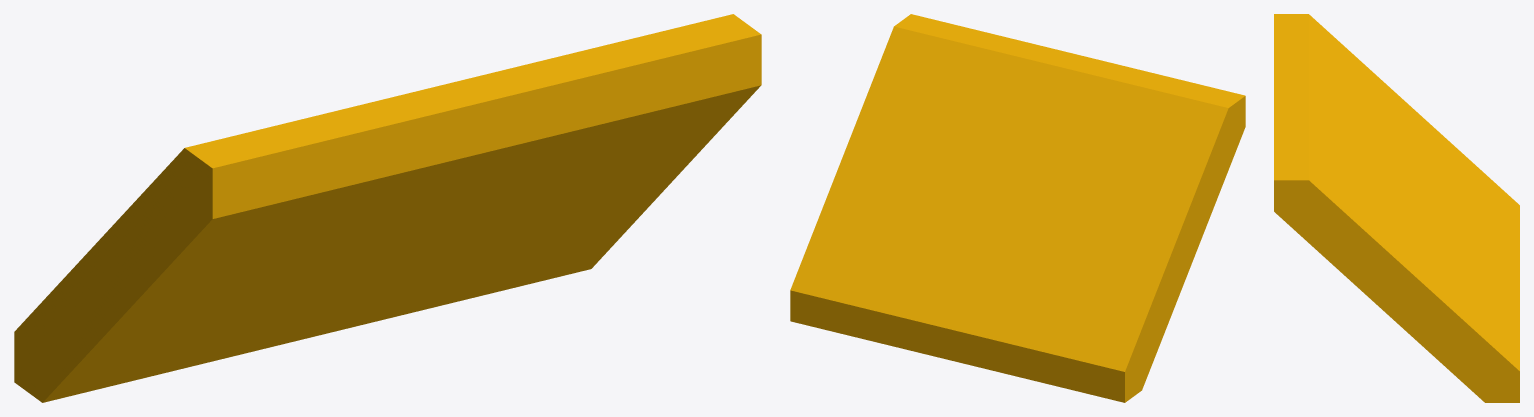
Rendered from fender_corner_1x3.dae.
The picture shows the model from 3 angles, left to right: view 1: azimuth 30°, elevation 25°; view 2: azimuth 150°, elevation 25°; view 3: azimuth 270°, elevation 25°; orthographic projection. The views are drawn at different scales.
Visible parts, largest first — view 1: Cube; view 2: Cube; view 3: Cube.
Boxes of the visible parts, x1,y1,x2,y2 form: Cube: (14,14,761,402); Cube: (790,14,1245,402); Cube: (1274,14,1519,402).
Bounding box in the file's own units: 0.5 × 0.3125 × 0.3125.
